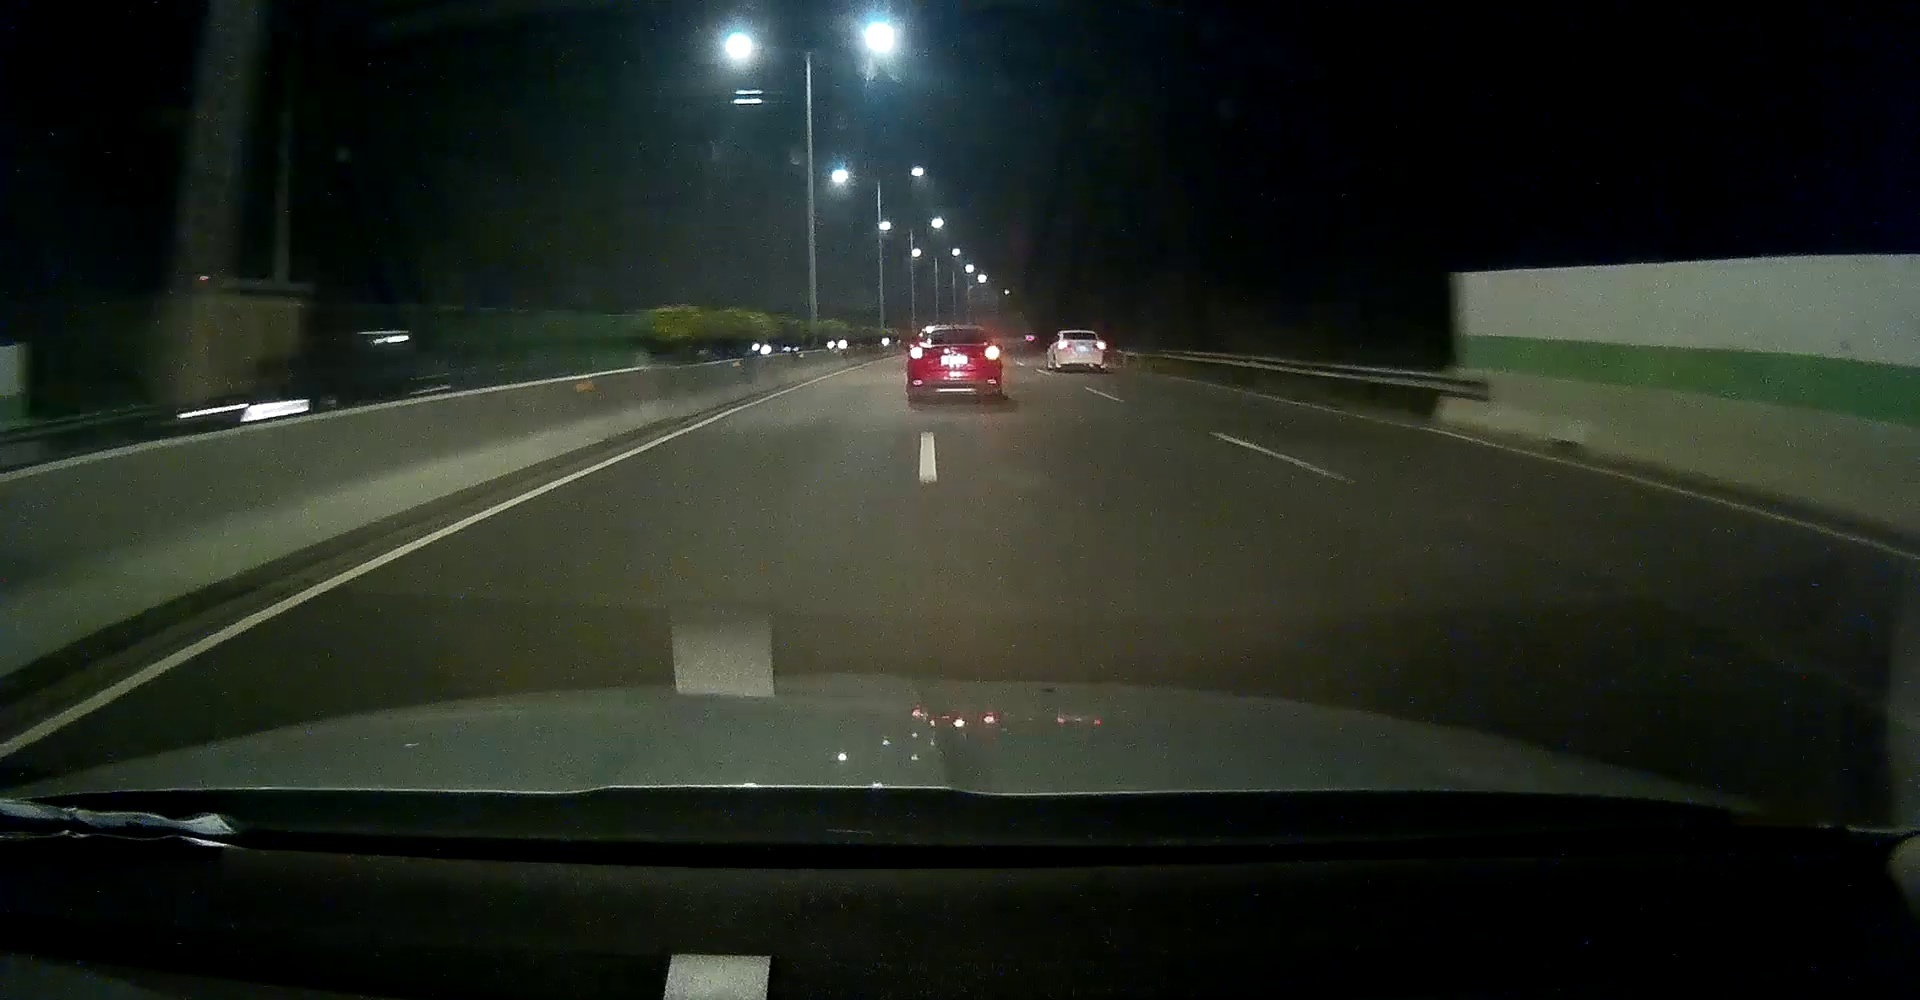L_light: (909, 346, 924, 359), (1058, 341, 1069, 349)
R_light: (983, 346, 1001, 360), (1093, 340, 1103, 349)
T_light: (952, 327, 968, 332), (1076, 332, 1083, 334)
night-no: (905, 325, 1001, 400), (1054, 330, 1103, 372)
